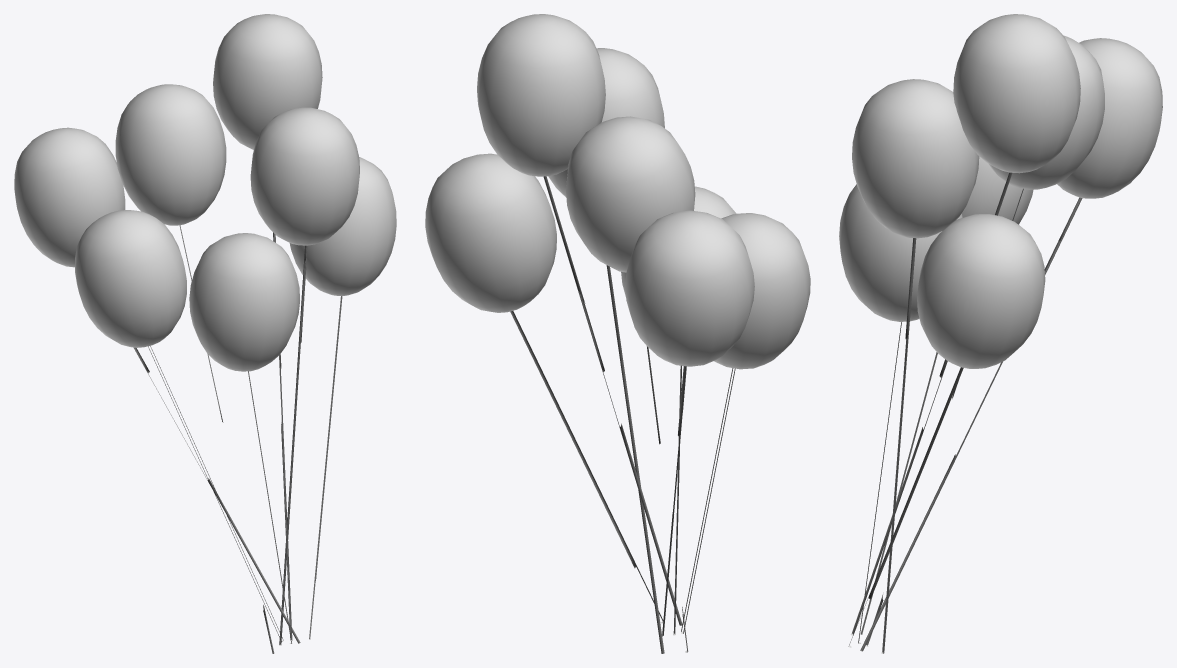
File: Balloons.fbx
The picture shows the model from 3 angles, left to right: view 1: azimuth 30°, elevation 25°; view 2: azimuth 150°, elevation 25°; view 3: azimuth 270°, elevation 25°; orthographic projection. The views are drawn at different scales.
Parts seen in each view (by area): view 1: polySurface320.001; view 2: polySurface320.001; view 3: polySurface320.001.
Boxes of the visible parts, <box> form: polySurface320.001: <box>14,14,396,653</box>; polySurface320.001: <box>425,14,810,653</box>; polySurface320.001: <box>839,14,1162,653</box>.
Size of the model in its own units: 106 by 183 by 81.46.
